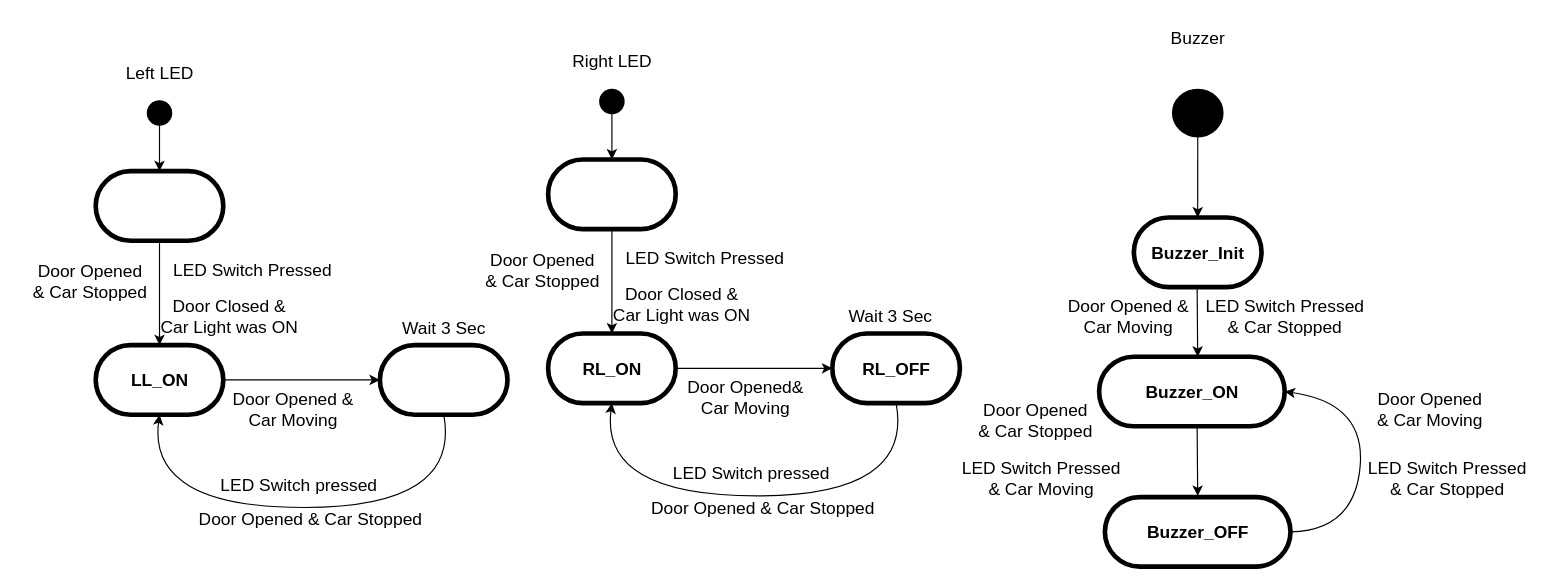
Some shapes in this 1559 by 588 pixel diagram are drawn without their labels. Each missing label, with the centre of its shape:
"LL_Init" belongs at point 159,205.
"LL_OFF" belongs at point 443,379.
"RL_Init" belongs at point 611,194.
